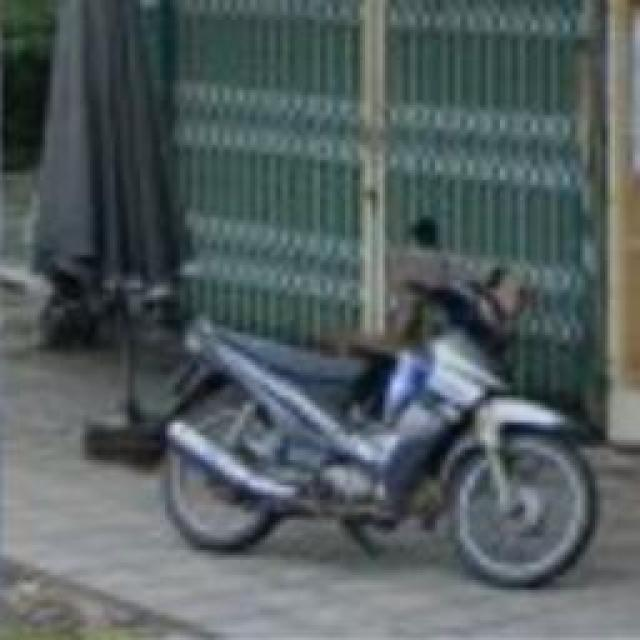motorbike: (153, 203, 620, 597)
